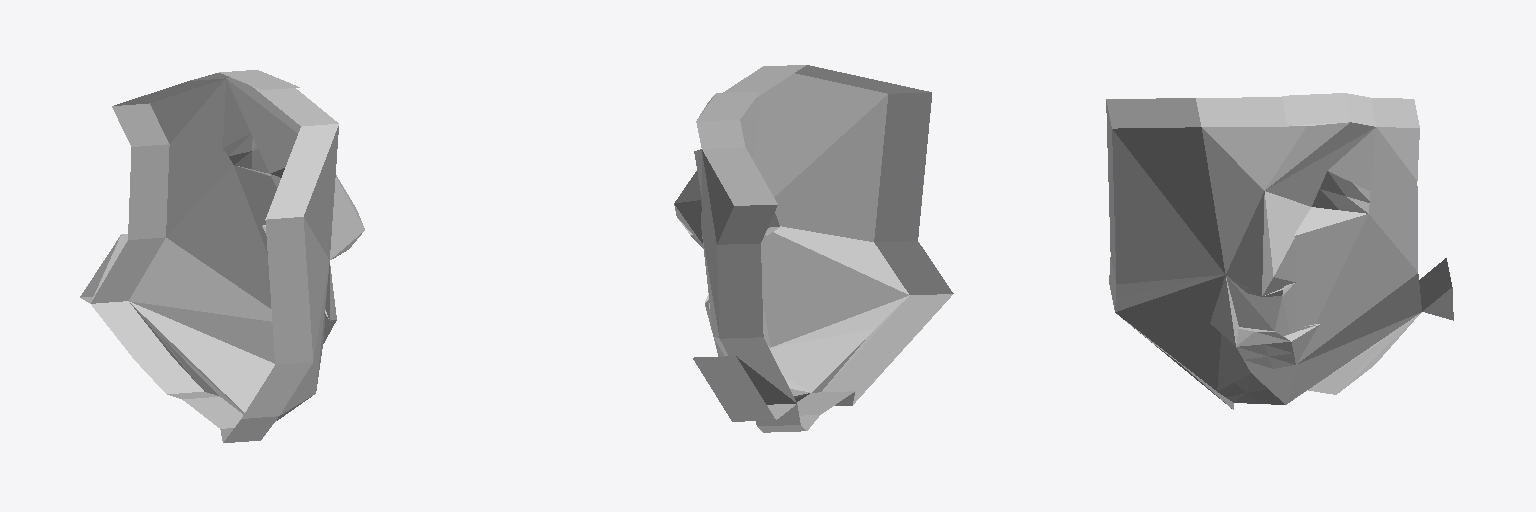
3 views of the same model, side by side, from view 1: azimuth 30°, elevation 25°; view 2: azimuth 150°, elevation 25°; view 3: azimuth 270°, elevation 25° (orthographic).
Visible parts, largest first — view 1: PILOT.001; view 2: PILOT.001; view 3: PILOT.001.
Boxes of the visible parts, x1,y1,x2,y2 form: PILOT.001: [80, 70, 364, 442]; PILOT.001: [674, 65, 953, 432]; PILOT.001: [1106, 93, 1453, 409].
Bounding box in the file's own units: 0.0141 × 0.022 × 0.0212.